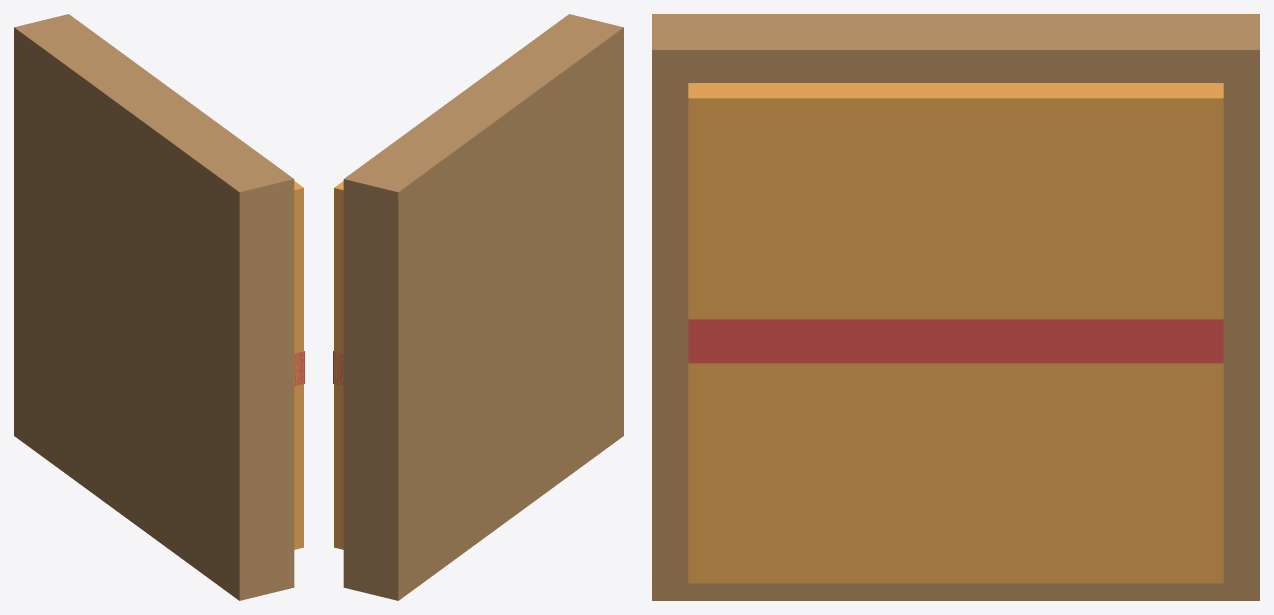
The model's file is SM_Trap_PusherWall.fbx.
The picture shows the model from 3 angles, left to right: view 1: azimuth 30°, elevation 25°; view 2: azimuth 150°, elevation 25°; view 3: azimuth 270°, elevation 25°; orthographic projection. The views are drawn at different scales.
Visible parts, largest first — view 1: SM_Trap_PusherWall; view 2: SM_Trap_PusherWall; view 3: SM_Trap_PusherWall.
Boxes of the visible parts, x1=… form: SM_Trap_PusherWall: x1=14, y1=14, x2=304, y2=600; SM_Trap_PusherWall: x1=333, y1=14, x2=623, y2=600; SM_Trap_PusherWall: x1=652, y1=14, x2=1259, y2=600.
Size of the model in its own units: 0.202 by 1 by 1.
